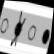correct: (38, 24, 52, 47)
no answer: (25, 21, 38, 43), (0, 15, 11, 36)
not correct: (8, 8, 27, 49)
